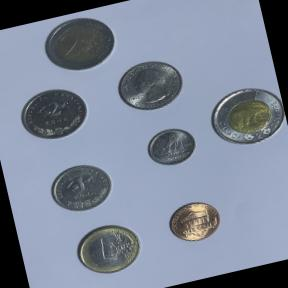coin: (34, 4, 127, 82), (198, 76, 288, 156), (11, 76, 99, 153), (106, 49, 192, 121), (68, 213, 151, 284), (160, 194, 228, 250), (138, 120, 204, 175)
